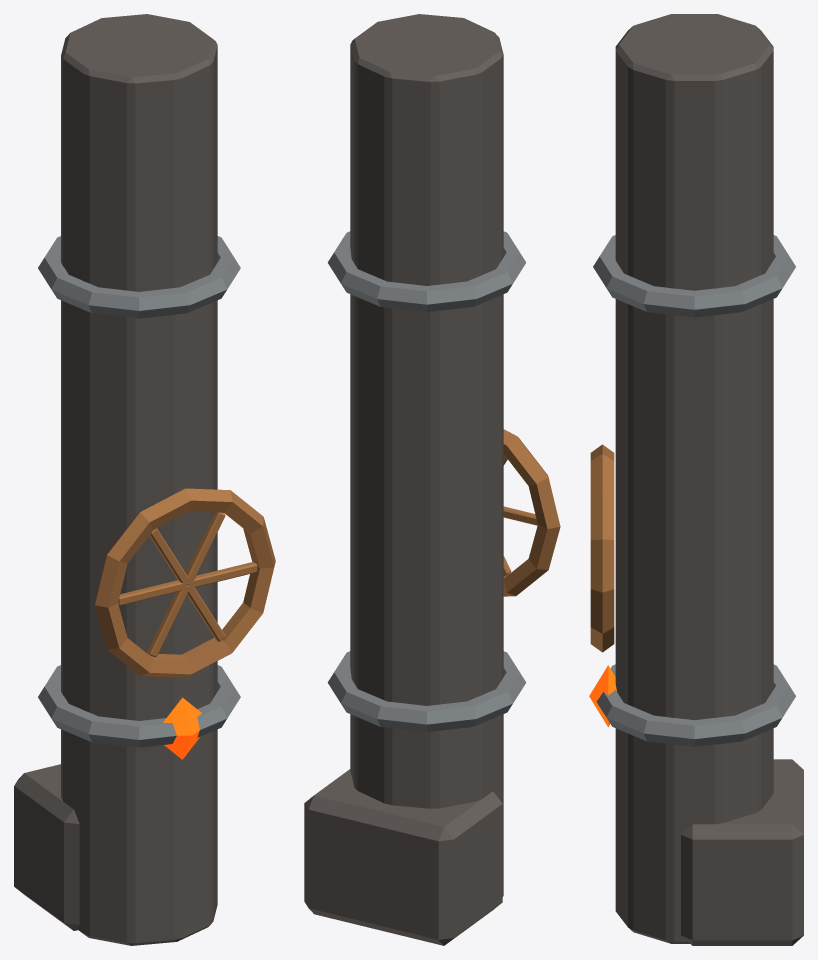
File: forge_pipe.glb
The picture shows the model from 3 angles, left to right: view 1: azimuth 30°, elevation 25°; view 2: azimuth 150°, elevation 25°; view 3: azimuth 270°, elevation 25°; orthographic projection. The views are drawn at different scales.
Visible parts, largest first — view 1: GEO_iron, GEO_ironlight, ANIM_valve_wheel, ANIM_vent_glow, ANIM_ValveSpoke_4, ANIM_ValveSpoke_1, ANIM_ValveSpoke_0, ANIM_ValveSpoke_3, ANIM_ValveSpoke_2, ANIM_ValveSpoke_5; view 2: GEO_iron, GEO_ironlight, ANIM_valve_wheel; view 3: GEO_iron, GEO_ironlight, ANIM_valve_wheel, ANIM_vent_glow.
Part boxes in pixels (box(x1,y1,x2,y2)): GEO_iron: box(14, 14, 217, 945); GEO_ironlight: box(38, 236, 240, 747); ANIM_valve_wheel: box(95, 488, 275, 677); ANIM_vent_glow: box(163, 697, 201, 759); ANIM_ValveSpoke_4: box(147, 585, 189, 657); ANIM_ValveSpoke_1: box(185, 512, 225, 584); ANIM_ValveSpoke_0: box(188, 562, 257, 587); ANIM_ValveSpoke_3: box(118, 580, 187, 605); ANIM_ValveSpoke_2: box(149, 528, 189, 585); ANIM_ValveSpoke_5: box(187, 585, 225, 641); GEO_iron: box(304, 14, 503, 945); GEO_ironlight: box(327, 231, 526, 731); ANIM_valve_wheel: box(503, 429, 560, 596); GEO_iron: box(615, 14, 803, 945); GEO_ironlight: box(593, 235, 795, 746); ANIM_valve_wheel: box(590, 444, 614, 652); ANIM_vent_glow: box(589, 665, 616, 727).
Bounding box in the file's own units: 1.09 × 5 × 1.12.
